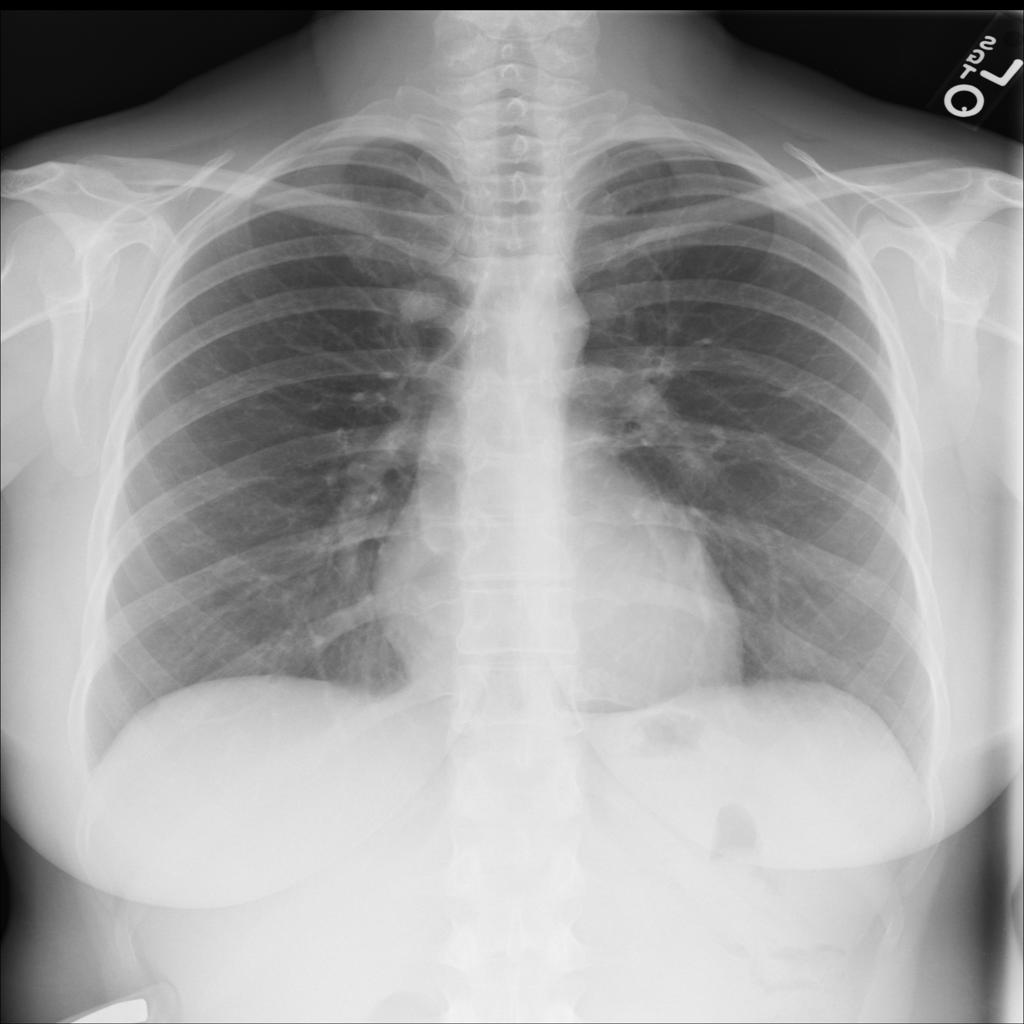nodule: (381, 268, 460, 333)
